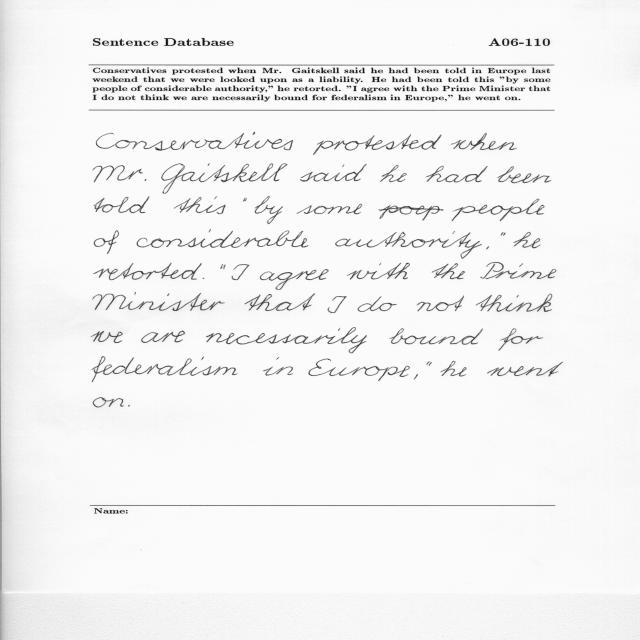word: (206, 328, 367, 354), (335, 231, 482, 259), (92, 356, 238, 382), (162, 164, 288, 194), (96, 132, 293, 151), (137, 229, 309, 248), (313, 134, 441, 155), (93, 292, 225, 311), (308, 359, 410, 381), (452, 199, 545, 221), (94, 263, 202, 280), (389, 328, 483, 345), (260, 269, 329, 290), (476, 294, 552, 312), (481, 262, 557, 279), (244, 293, 315, 311), (300, 164, 367, 181), (451, 133, 517, 150), (347, 263, 410, 280), (487, 362, 563, 376), (426, 166, 488, 183), (379, 205, 444, 221), (498, 329, 543, 351), (174, 197, 226, 215), (94, 197, 149, 214), (93, 165, 147, 182), (497, 166, 551, 183), (255, 197, 283, 225), (417, 296, 465, 311), (297, 204, 363, 214), (358, 296, 397, 312), (94, 230, 119, 254), (263, 357, 293, 376), (432, 263, 466, 279), (141, 331, 185, 343), (380, 165, 407, 182), (513, 232, 541, 248), (440, 361, 467, 376), (91, 331, 123, 343), (328, 296, 347, 313), (93, 398, 124, 408), (414, 361, 430, 380), (232, 264, 250, 280), (220, 264, 226, 269), (243, 198, 247, 202), (501, 232, 505, 236), (429, 362, 432, 366), (486, 246, 489, 249), (128, 405, 130, 407), (203, 278, 204, 279)
